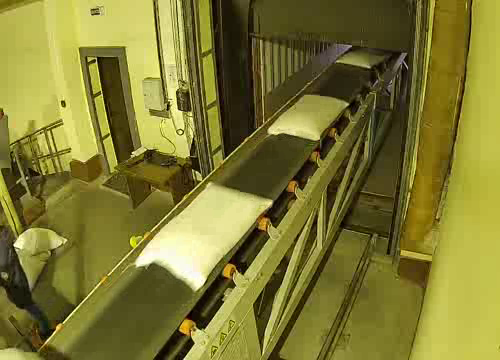bag: (130, 174, 290, 297), (262, 87, 358, 147), (332, 43, 394, 71), (0, 342, 56, 360)
